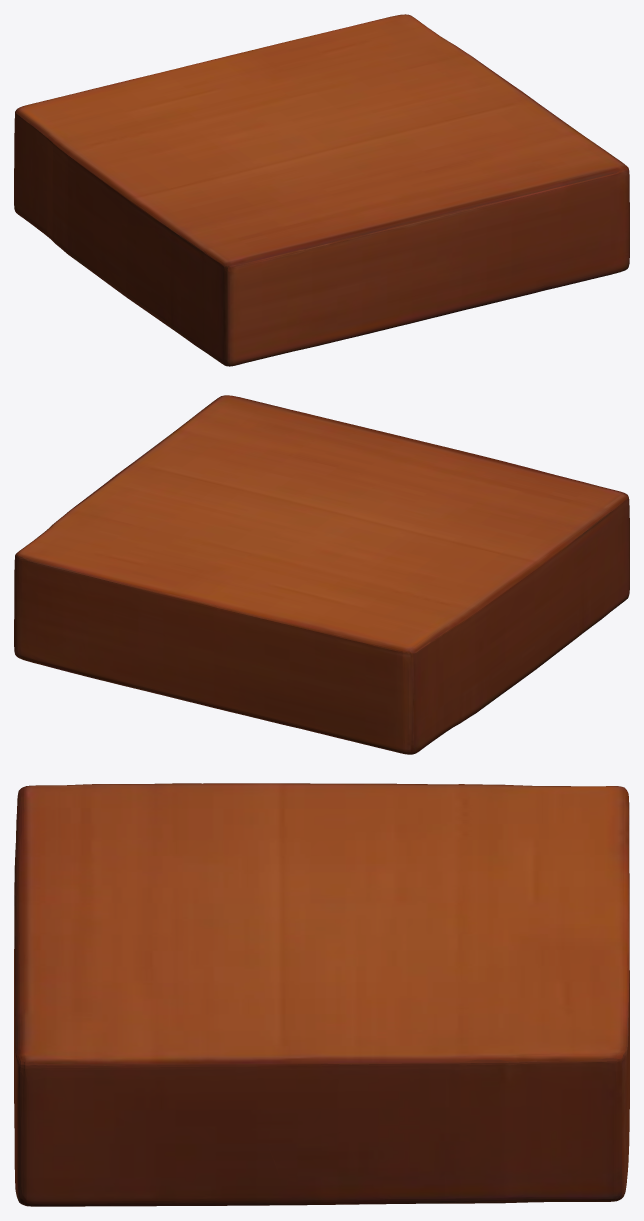
File: floor.glb
3 renders of one model, top to bottom at view 1: azimuth 30°, elevation 25°; view 2: azimuth 150°, elevation 25°; view 3: azimuth 270°, elevation 25°, orthographic. The views are drawn at different scales.
Visible parts, largest first — view 1: world; view 2: world; view 3: world.
Part boxes in pixels (left/top/right/bottom): world: left=14, top=14, right=629, bottom=366; world: left=14, top=395, right=629, bottom=754; world: left=14, top=783, right=629, bottom=1206.
Bounding box in the file's own units: 0.9918 × 0.2434 × 0.9125.
Materials: 1 (1 with a texture image).
